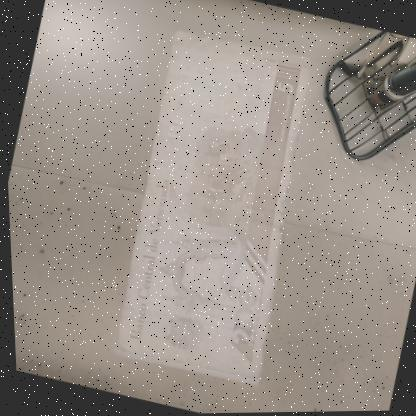five-back-vef: (94, 25, 335, 384)
